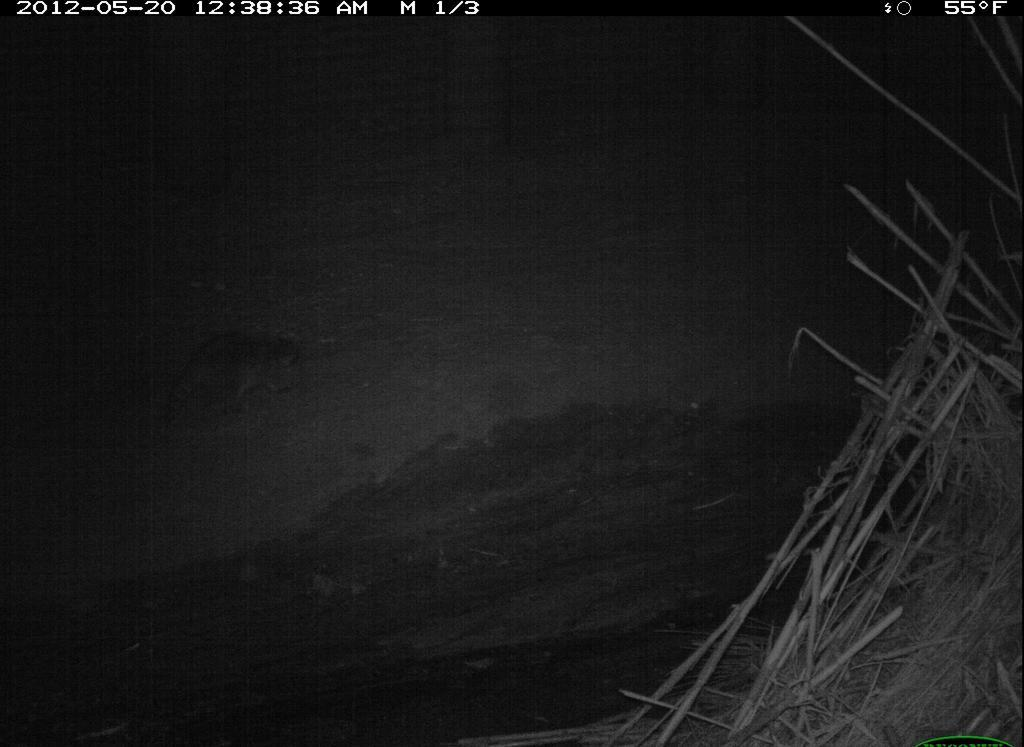raccoon: (162, 314, 335, 438)
